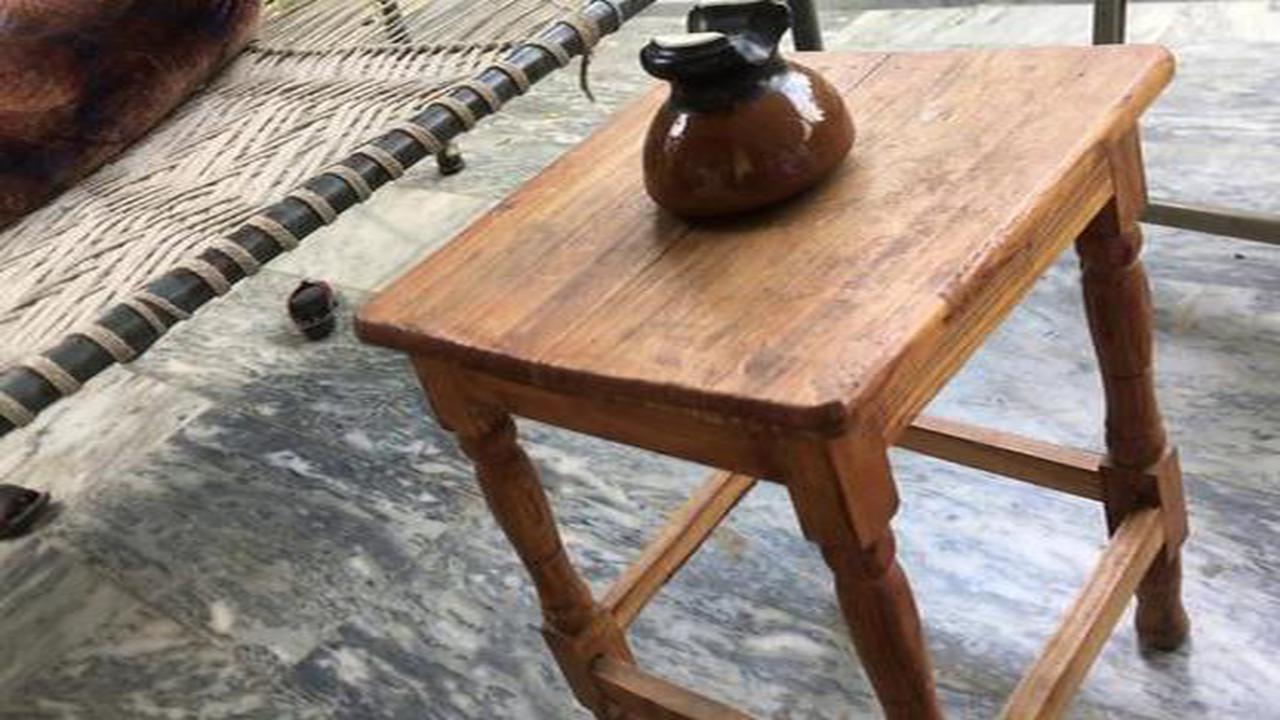insulator_pin: (622, 4, 881, 239)
